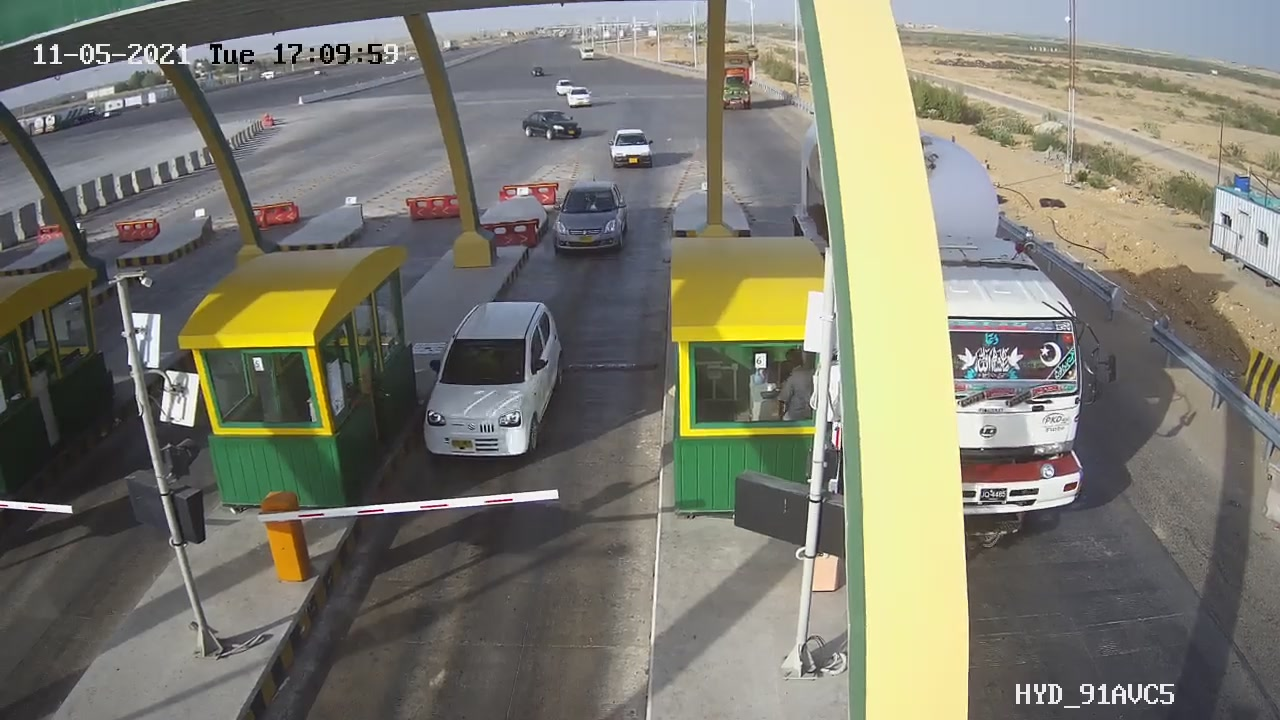F1: (400, 282, 587, 477), (533, 170, 639, 269)
